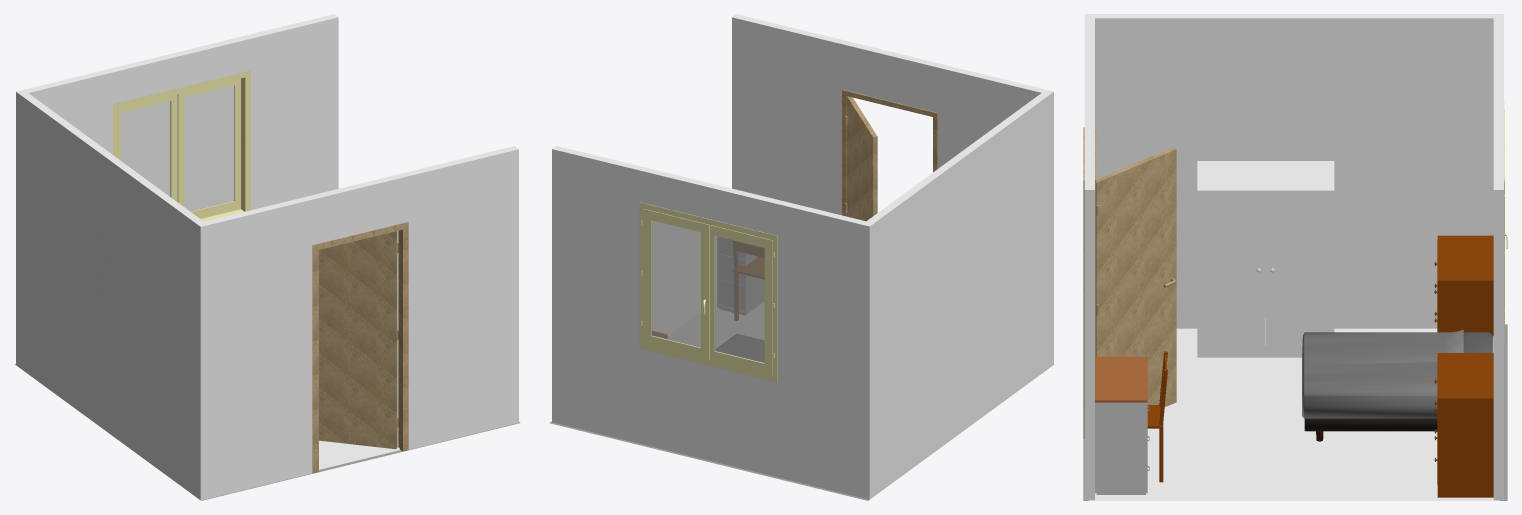
The model's file is HabitacionIzquierda.obj.
3 renders of one model, left to right at view 1: azimuth 30°, elevation 25°; view 2: azimuth 150°, elevation 25°; view 3: azimuth 270°, elevation 25°, orthographic. The views are drawn at different scales.
Visible parts, largest first — view 1: wall_3_11, wall_4_17, wall_1_5, sweethome3d_opening_on_hinge_1_door_80, sweethome3d_window_pane_on_hinge_1_88, frame_72, sweethome3d_window_pane_on_hinge_2_93, frame_81, sweethome3d_opening_on_hinge_1_87, room_5_20, sweethome3d_opening_on_hinge_2_92, wall_3_13 (+5 smaller); view 2: wall_1_4, wall_4_17, wall_3_10, sweethome3d_window_pane_on_hinge_1_88, sweethome3d_window_pane_on_hinge_2_93, sweethome3d_opening_on_hinge_1_87, sweethome3d_opening_on_hinge_1_door_80, sweethome3d_opening_on_hinge_2_92, frame_81, room_5_20, frame_72, Bottom_54 (+8 smaller); view 3: wall_4_16, room_5_20, sweethome3d_opening_on_hinge_1_door_80, 21, sweethome3d_opening_on_hinge_1_door_47, sweethome3d_opening_on_hinge_2_door_53, Corps_94, Corps_27, Corps_45, Bottom_54, Desk_55, 25 (+13 smaller).
Boxes of the visible parts, bbox=[...] form: wall_3_11: bbox=[200, 149, 518, 500]; wall_4_17: bbox=[16, 92, 200, 499]; wall_1_5: bbox=[28, 17, 338, 209]; sweethome3d_opening_on_hinge_1_door_80: bbox=[319, 231, 397, 449]; sweethome3d_window_pane_on_hinge_1_88: bbox=[184, 85, 234, 211]; frame_72: bbox=[312, 222, 408, 473]; sweethome3d_window_pane_on_hinge_2_93: bbox=[121, 101, 170, 196]; frame_81: bbox=[113, 70, 250, 221]; sweethome3d_opening_on_hinge_1_87: bbox=[177, 78, 240, 218]; room_5_20: bbox=[319, 340, 399, 469]; sweethome3d_opening_on_hinge_2_92: bbox=[118, 94, 177, 201]; wall_3_13: bbox=[201, 147, 518, 226]; wall_1_4: bbox=[552, 149, 869, 499]; wall_4_17: bbox=[869, 92, 1053, 499]; wall_3_10: bbox=[732, 17, 1040, 215]; sweethome3d_window_pane_on_hinge_1_88: bbox=[651, 220, 700, 347]; sweethome3d_window_pane_on_hinge_2_93: bbox=[715, 236, 764, 362]; sweethome3d_opening_on_hinge_1_87: bbox=[643, 209, 709, 359]; sweethome3d_opening_on_hinge_1_door_80: bbox=[847, 96, 877, 221]; sweethome3d_opening_on_hinge_2_92: bbox=[710, 225, 772, 374]; frame_81: bbox=[639, 202, 777, 382]; room_5_20: bbox=[668, 301, 764, 347]; frame_72: bbox=[842, 89, 937, 216]; Bottom_54: bbox=[717, 237, 764, 313]; wall_4_16: bbox=[1095, 18, 1493, 328]; room_5_20: bbox=[1089, 328, 1499, 500]; sweethome3d_opening_on_hinge_1_door_80: bbox=[1096, 147, 1176, 406]; 21: bbox=[1302, 330, 1463, 418]; sweethome3d_opening_on_hinge_1_door_47: bbox=[1197, 190, 1265, 347]; sweethome3d_opening_on_hinge_2_door_53: bbox=[1266, 190, 1333, 347]; Corps_94: bbox=[1437, 353, 1493, 497]; Corps_27: bbox=[1437, 235, 1493, 336]; Corps_45: bbox=[1197, 161, 1334, 357]; Bottom_54: bbox=[1095, 402, 1147, 493]; Desk_55: bbox=[1095, 356, 1147, 402]; 25: bbox=[1304, 418, 1437, 431].
Size of the model in its own units: 305 by 250 by 310.
19 materials, 2 textured.
